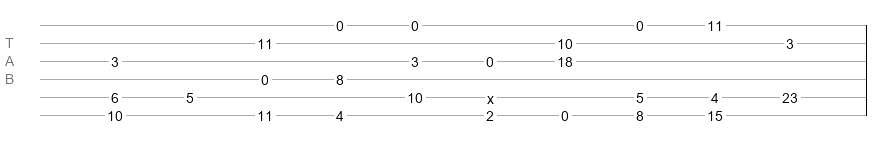0: (261, 72, 269, 82), (336, 18, 344, 28), (411, 18, 419, 28), (486, 54, 494, 64), (561, 108, 569, 118), (636, 18, 644, 28)
10: (107, 108, 123, 118), (407, 90, 423, 100), (557, 36, 573, 46)
11: (257, 36, 273, 46), (257, 108, 273, 118), (707, 18, 723, 28)
15: (707, 108, 723, 118)
18: (557, 54, 573, 64)
2: (486, 108, 494, 118)
23: (782, 90, 798, 100)
3: (111, 54, 119, 64), (411, 54, 419, 64), (786, 36, 794, 46)
4: (336, 108, 344, 118), (711, 90, 719, 100)
5: (186, 90, 194, 100), (636, 90, 644, 100)
6: (111, 90, 119, 100)
8: (336, 72, 344, 82), (636, 108, 644, 118)
x: (487, 91, 494, 99)
